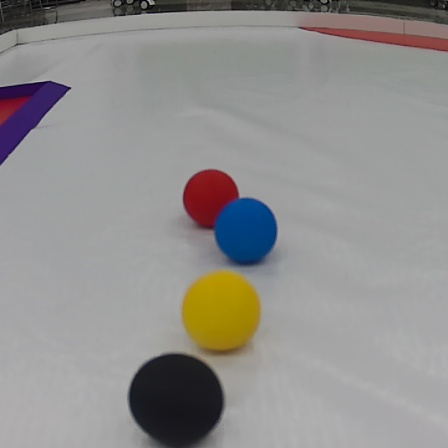black: (125, 348, 229, 448)
blue: (212, 197, 284, 268)
red: (176, 167, 247, 229)
red_aim: (4, 74, 72, 186)
red_base: (296, 16, 448, 71)
yellow: (177, 267, 266, 354)
